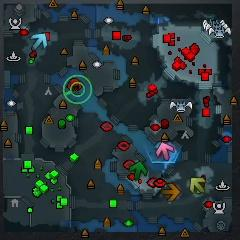Other: (63, 75, 93, 105)
x1: (156, 142, 174, 160)
x2: (190, 176, 206, 194)
x3: (31, 33, 47, 50)
x4: (129, 161, 147, 180)
x5: (161, 182, 180, 202)
